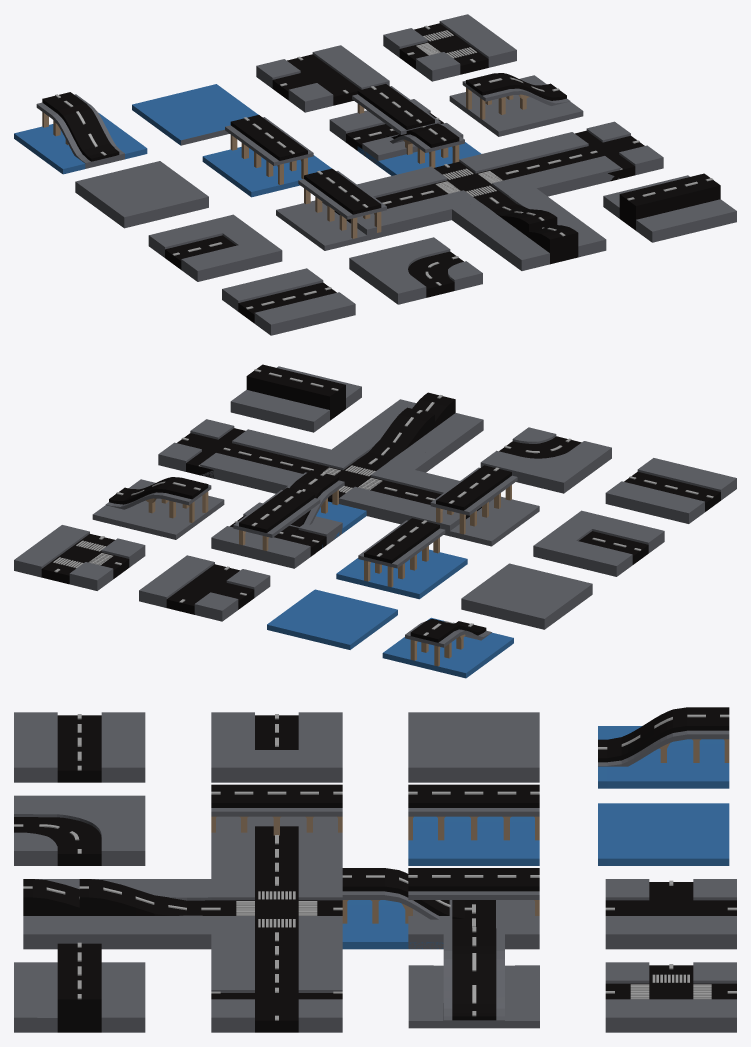
File: Streets_all.obj
3 renders of one model, top to bottom at view 1: azimuth 30°, elevation 25°; view 2: azimuth 150°, elevation 25°; view 3: azimuth 270°, elevation 25°, orthographic. The views are drawn at different scales.
Parts seen in each view (by area): view 1: Street_Ramp_Water.001_Cube.031, Street_Elevated_Cube.008, Street_Bridge_Water_Cube.011, Street_Deadend_Cube.015, Street_Empty_Cube, Street_Curve_Cube.001, Street_Straight_Cube.003, Street_3Way_Cube.007, Street_Bridge_Cube.025, Street_Ramp_Bridge.001_Cube.035, Street_3Way_2_Cube.017, Street_Bridge_Underpass_Cube.020 (+8 smaller); view 2: Street_Bridge_Underpass_Cube.020, Street_Bridge_Water_Cube.011, Street_Elevated_Cube.008, Street_Empty_Cube, Street_Deadend_Cube.015, Street_Straight_Cube.003, Street_3Way_2_Cube.017, Street_3Way_Cube.007, Street_Ramp_Bridge.001_Cube.035, Street_Bridge_Cube.025, Street_Curve_Cube.001, Street_Ramp_Water.001_Cube.031 (+8 smaller); view 3: Street_Bridge_Water_Cube.011, Street_Ramp_Bridge.001_Cube.035, Street_Elevated_Cube.008, Street_Ramp_Water.001_Cube.031, Street_Empty_Cube, Street_Curve_Cube.001, Street_3Way_2_Cube.017, Street_3Way_Cube.007, Street_Straight_Cube.003, Street_Deadend_Cube.015, Street_RampElevated.001_Cube.026, Street_Bridge_Underpass_Cube.020 (+8 smaller).
Part boxes in pixels (x1,y1,x2,y2): Street_Ramp_Water.001_Cube.031: (14,92,147,174); Street_Elevated_Cube.008: (603,173,736,242); Street_Bridge_Water_Cube.011: (202,115,331,197); Street_Deadend_Cube.015: (148,214,282,281); Street_Empty_Cube: (75,161,208,228); Street_Curve_Cube.001: (349,237,482,304); Street_Straight_Cube.003: (222,268,355,335); Street_3Way_Cube.007: (383,14,516,81); Street_Bridge_Cube.025: (276,168,409,250); Street_Ramp_Bridge.001_Cube.035: (449,73,583,136); Street_3Way_2_Cube.017: (256,45,389,112); Street_Bridge_Underpass_Cube.020: (329,84,463,164); Street_Bridge_Underpass_Cube.020: (211,487,342,568); Street_Bridge_Water_Cube.011: (336,518,467,599); Street_Elevated_Cube.008: (230,364,361,432); Street_Empty_Cube: (461,563,592,629); Street_Deadend_Cube.015: (533,510,664,576); Street_Straight_Cube.003: (605,458,736,523); Street_3Way_2_Cube.017: (139,555,270,621); Street_3Way_Cube.007: (14,525,145,590); Street_Ramp_Bridge.001_Cube.035: (92,477,224,539); Street_Bridge_Cube.025: (430,465,539,546); Street_Curve_Cube.001: (480,427,611,493); Street_Ramp_Water.001_Cube.031: (382,617,513,678); Street_Bridge_Water_Cube.011: (408,784,539,865); Street_Ramp_Bridge.001_Cube.035: (408,927,539,1028); Street_Elevated_Cube.008: (14,942,145,1032); Street_Ramp_Water.001_Cube.031: (598,707,729,788); Street_Empty_Cube: (408,712,539,782); Street_Curve_Cube.001: (14,795,145,865); Street_3Way_2_Cube.017: (605,879,736,949); Street_3Way_Cube.007: (605,962,736,1032); Street_Straight_Cube.003: (14,712,145,782); Street_Deadend_Cube.015: (211,712,342,782); Street_RampElevated.001_Cube.026: (79,879,211,949); Street_Bridge_Underpass_Cube.020: (408,868,539,949).
Size of the model in its own units: 11 by 0.768 by 11.
